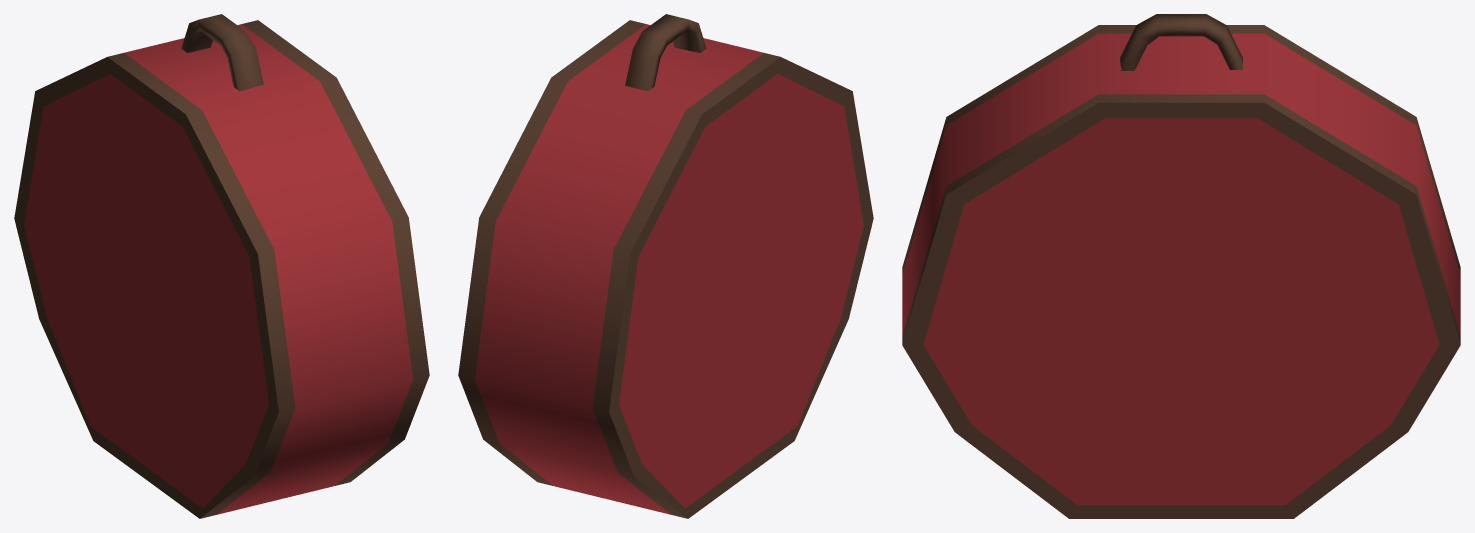
File: RoundSuitcase.fbx
3 views of the same model, side by side, from view 1: azimuth 30°, elevation 25°; view 2: azimuth 150°, elevation 25°; view 3: azimuth 270°, elevation 25° (orthographic). The views are drawn at different scales.
Parts seen in each view (by area): view 1: RoundSuitcase; view 2: RoundSuitcase; view 3: RoundSuitcase.
Part boxes in pixels (<box>): RoundSuitcase: <box>14,14,429,518</box>; RoundSuitcase: <box>458,14,873,518</box>; RoundSuitcase: <box>902,14,1460,518</box>.
Bounding box in the file's own units: 0.1483 × 0.4097 × 0.4506.
